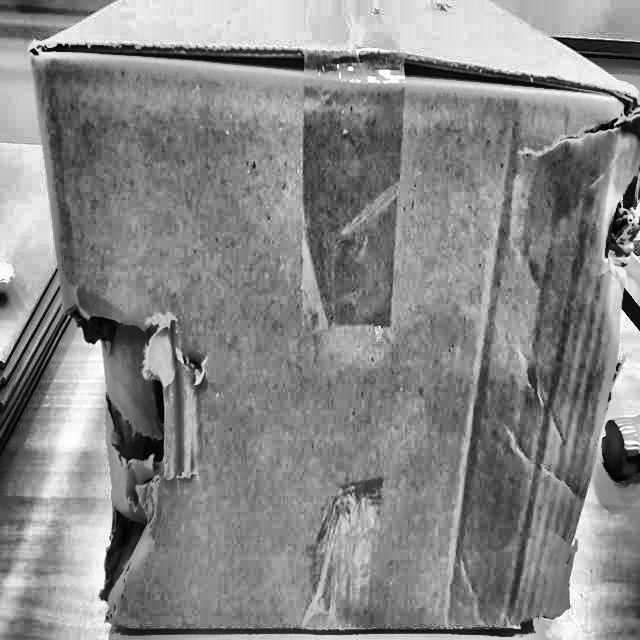box: (20, 0, 639, 639)
hole: (86, 308, 202, 590), (592, 157, 640, 298)
